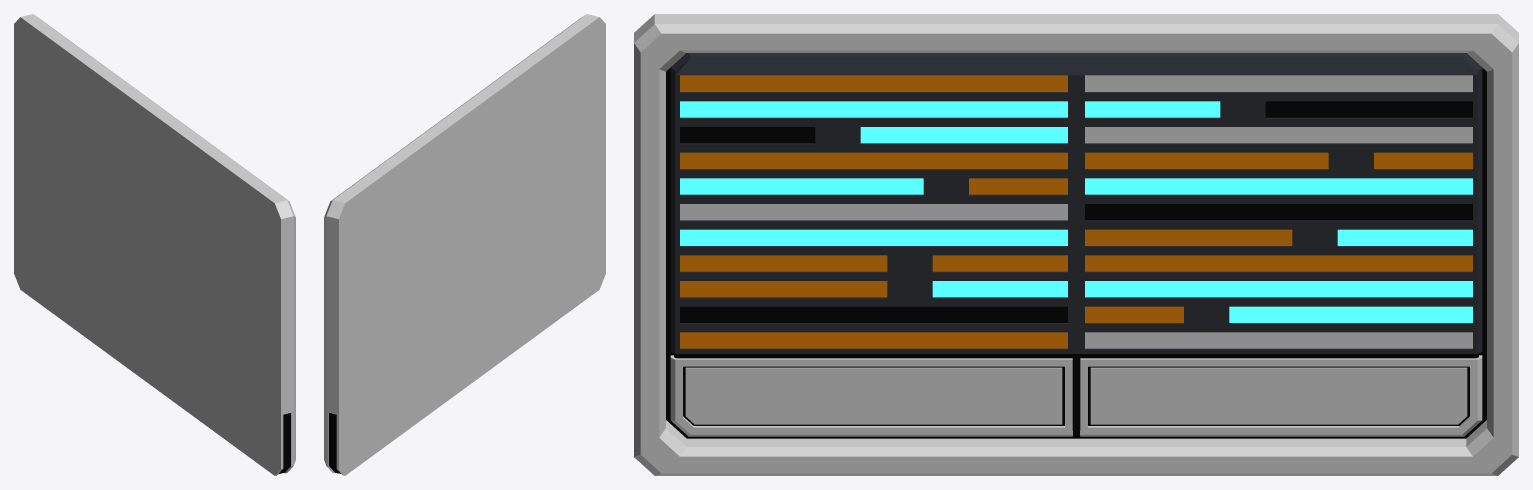
File: SM_WallDecor_WallConsole_Large.glb
3 renders of one model, left to right at view 1: azimuth 30°, elevation 25°; view 2: azimuth 150°, elevation 25°; view 3: azimuth 270°, elevation 25°, orthographic. The views are drawn at different scales.
Parts seen in each view (by area): view 1: SM_WallDecor_WallConsole_Large; view 2: SM_WallDecor_WallConsole_Large; view 3: SM_WallDecor_WallConsole_Large.
Part boxes in pixels (box(x1,y1,x2,y2)): SM_WallDecor_WallConsole_Large: box(14, 14, 295, 475); SM_WallDecor_WallConsole_Large: box(324, 14, 605, 475); SM_WallDecor_WallConsole_Large: box(634, 14, 1518, 475).
Size of the model in its own units: 0.1461 by 2.25 by 4.
